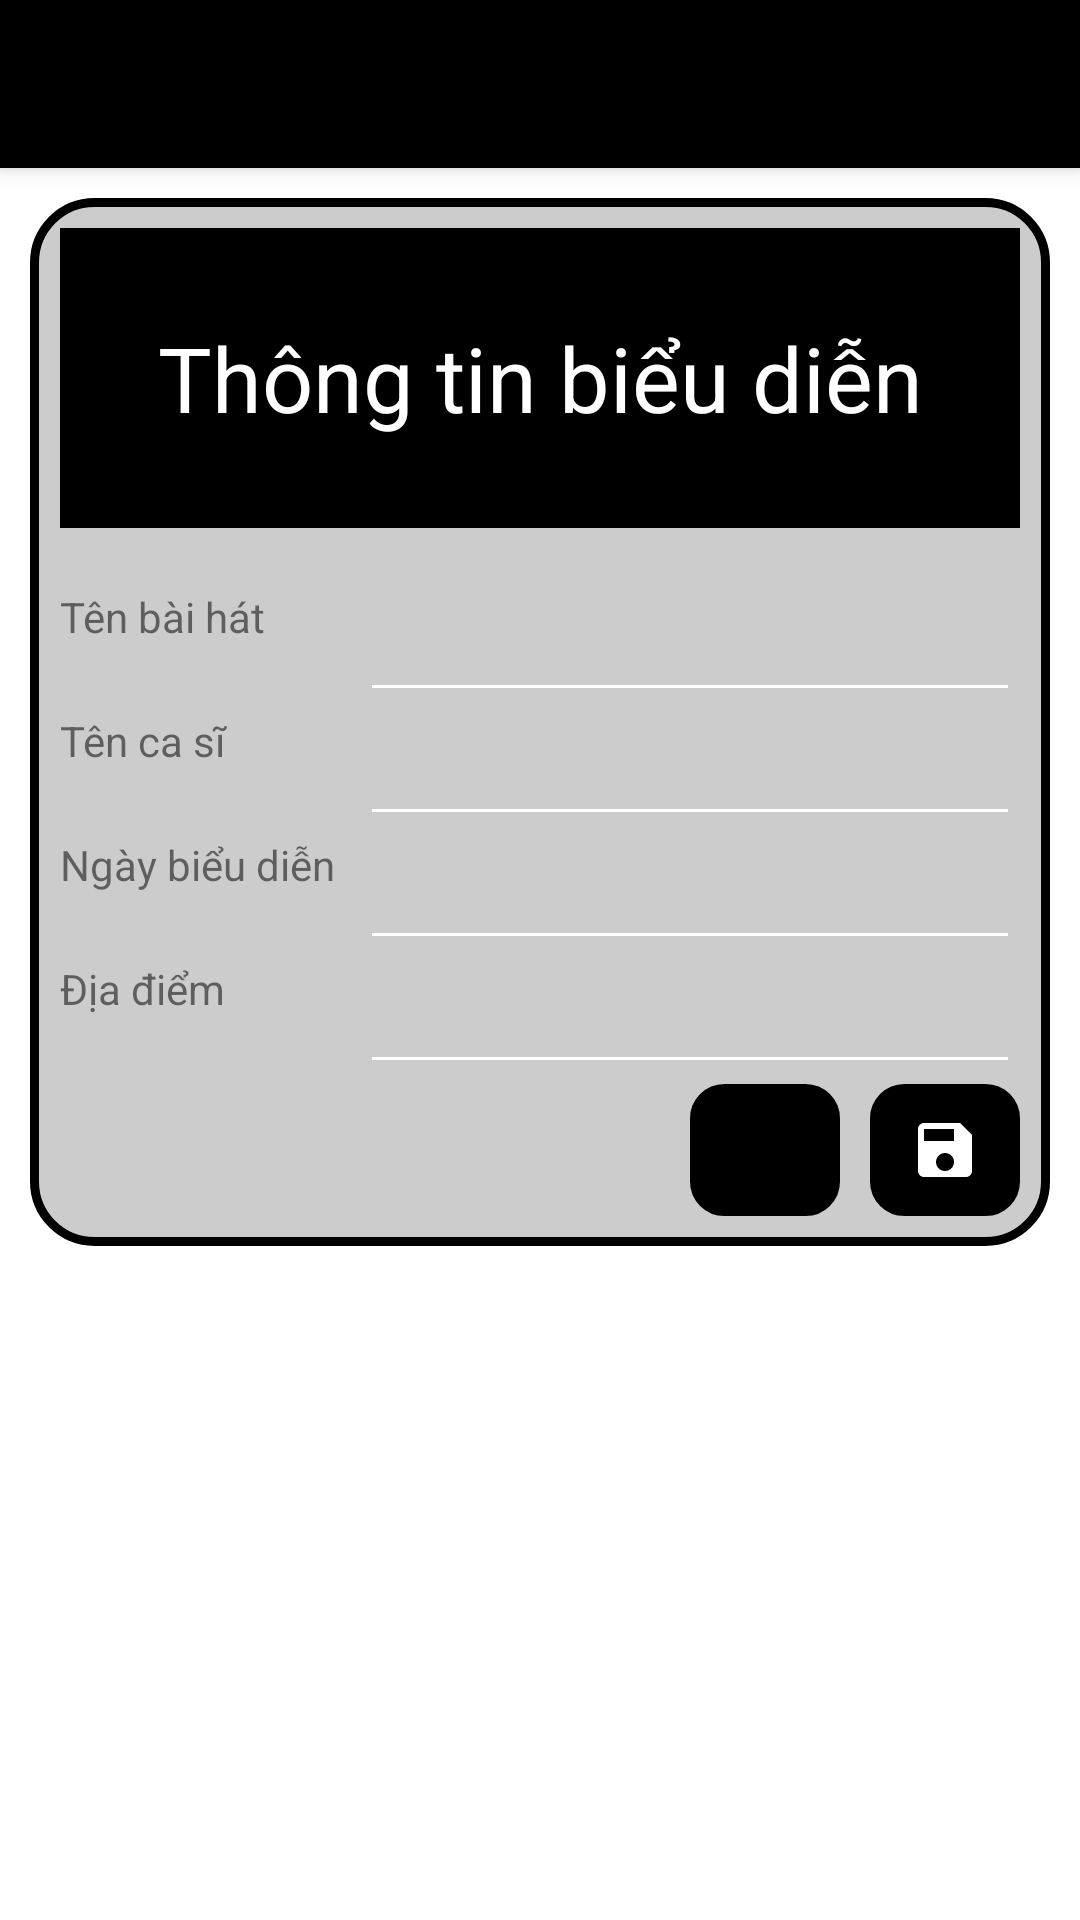

Icon click points for this 1080*1920 phone screenshot, format [x,y]:
save: [945,1150]
